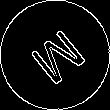M_SE: (21, 21, 89, 89)
